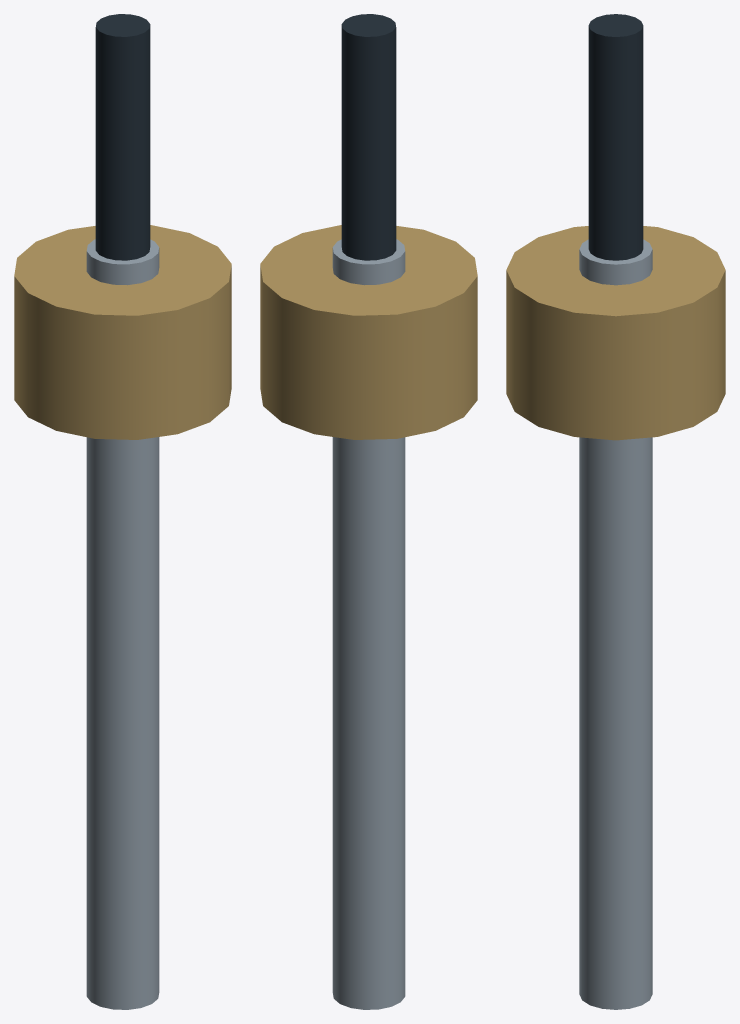
The picture shows the model from 3 angles, left to right: view 1: azimuth 30°, elevation 25°; view 2: azimuth 150°, elevation 25°; view 3: azimuth 270°, elevation 25°; orthographic projection.
Visible parts, largest first — view 1: 测温传感器; view 2: 测温传感器; view 3: 测温传感器.
Part boxes in pixels (x1=…): 测温传感器: x1=14, y1=14, x2=231, y2=1009; 测温传感器: x1=260, y1=14, x2=477, y2=1009; 测温传感器: x1=506, y1=14, x2=725, y2=1009.
Size of the model in its own units: 0.24 by 1.17 by 0.24.
